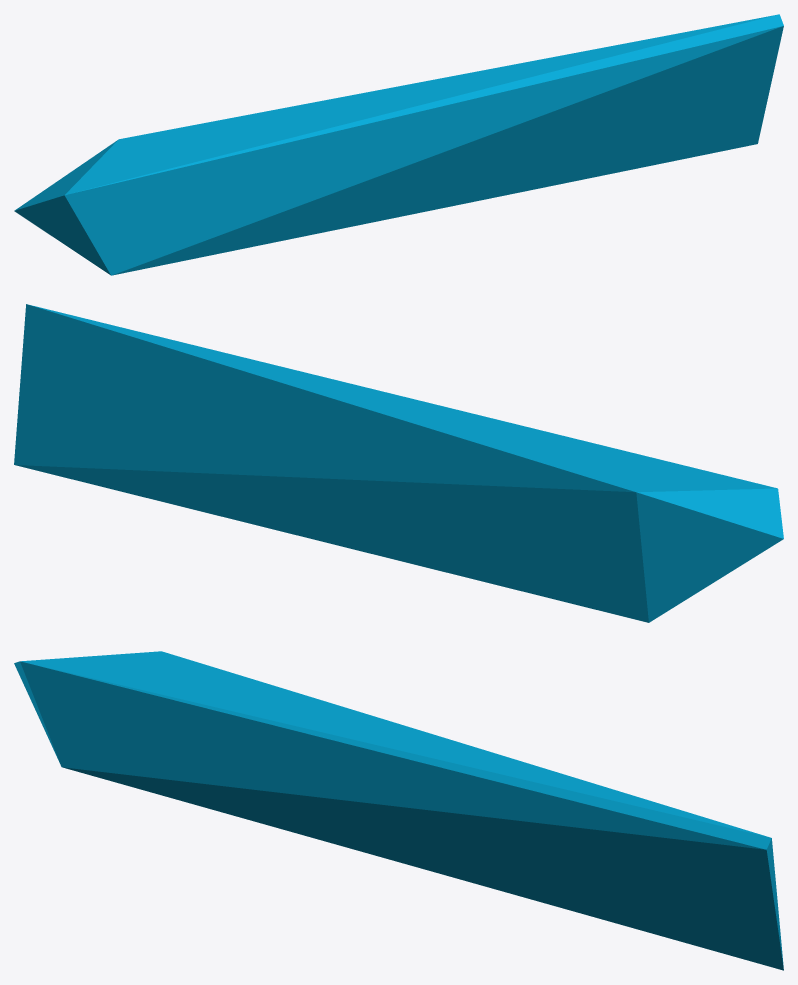
Rendered from waste_bin_convex_piece_035.obj.
3 renders of one model, top to bottom at view 1: azimuth 30°, elevation 25°; view 2: azimuth 150°, elevation 25°; view 3: azimuth 330°, elevation 25°, orthographic. The views are drawn at different scales.
Bounding box in the file's own units: 0.1151 × 0.0208 × 0.0121.
